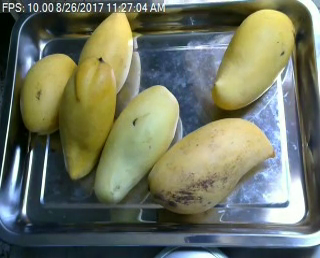Mango: (147, 116, 274, 211), (94, 85, 176, 203), (212, 9, 293, 110), (59, 57, 115, 179), (17, 53, 82, 133), (76, 5, 132, 93)
